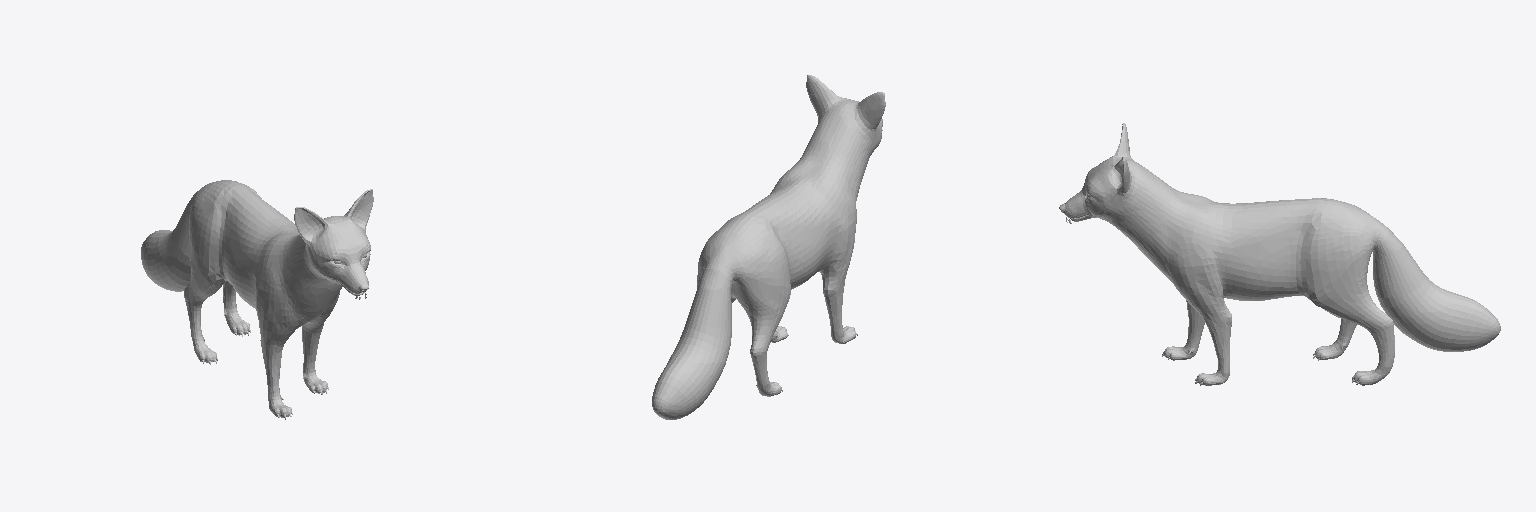
File: fox.obj
The picture shows the model from 3 angles: view 1: azimuth 30°, elevation 25°; view 2: azimuth 150°, elevation 25°; view 3: azimuth 270°, elevation 25°; orthographic projection.
Parts seen in each view (by area): view 1: mesh_0; view 2: mesh_0; view 3: mesh_0.
Part boxes in pixels (x1,y1,x2,y2): mesh_0: (141,180,373,419); mesh_0: (652,75,885,419); mesh_0: (1059,123,1500,385).
Bounding box in the file's own units: 14.26 × 39.59 × 68.81.